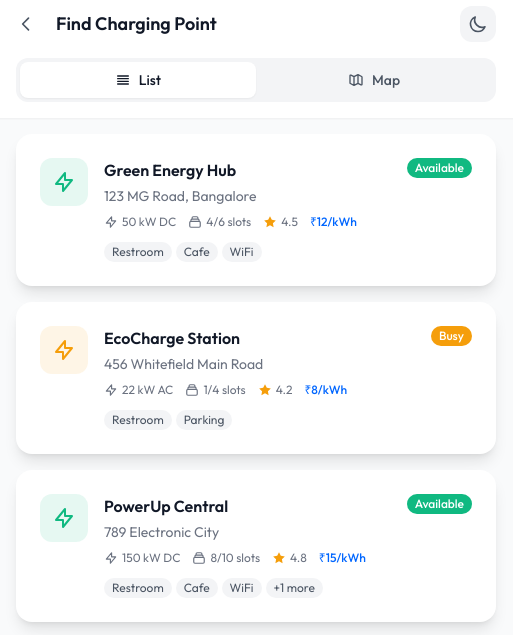
Test: FindCPO Component › can switch back to list view
Note: Switch to map
Click the button "Map" at (374, 80), box [256,62,492,98]
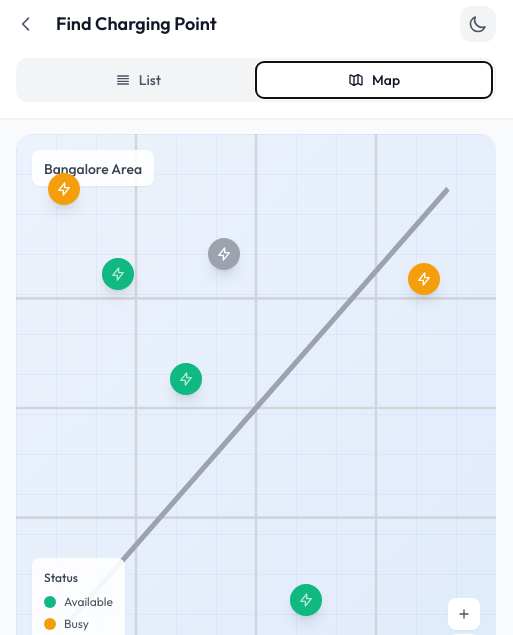
Note: Switch back to list
Click the button "List" at (138, 80), box [20,62,256,98]
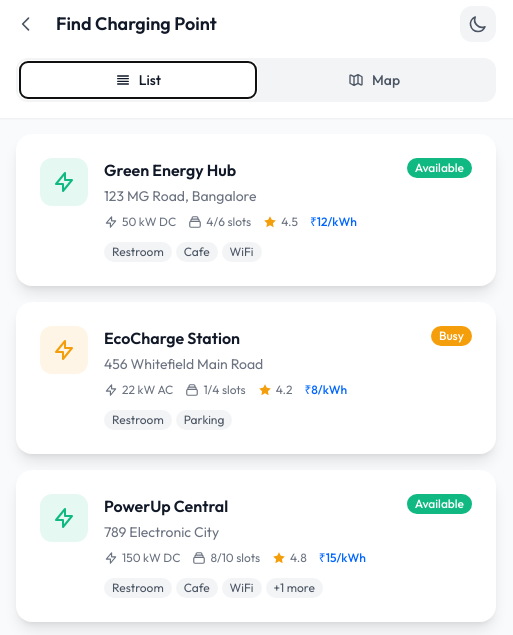
Expected: the heading "Green Energy Hub" is shown, [104,158,236,182]
